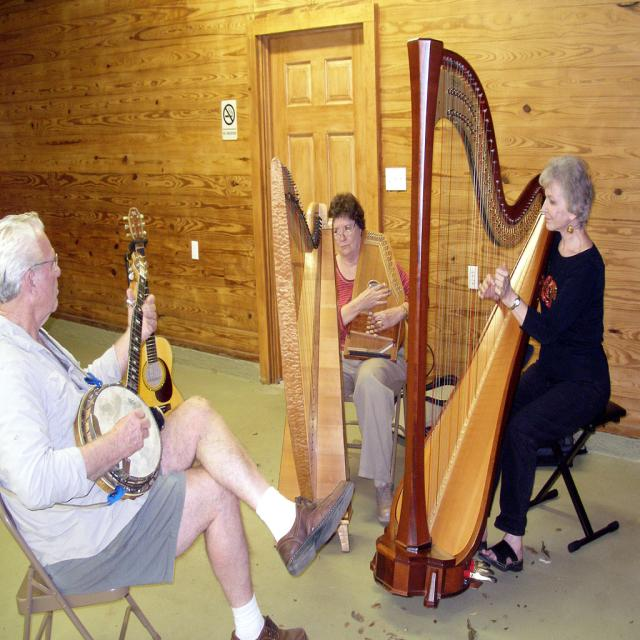guitar: (120, 204, 188, 418)
harp: (366, 33, 560, 605), (268, 150, 359, 558)
